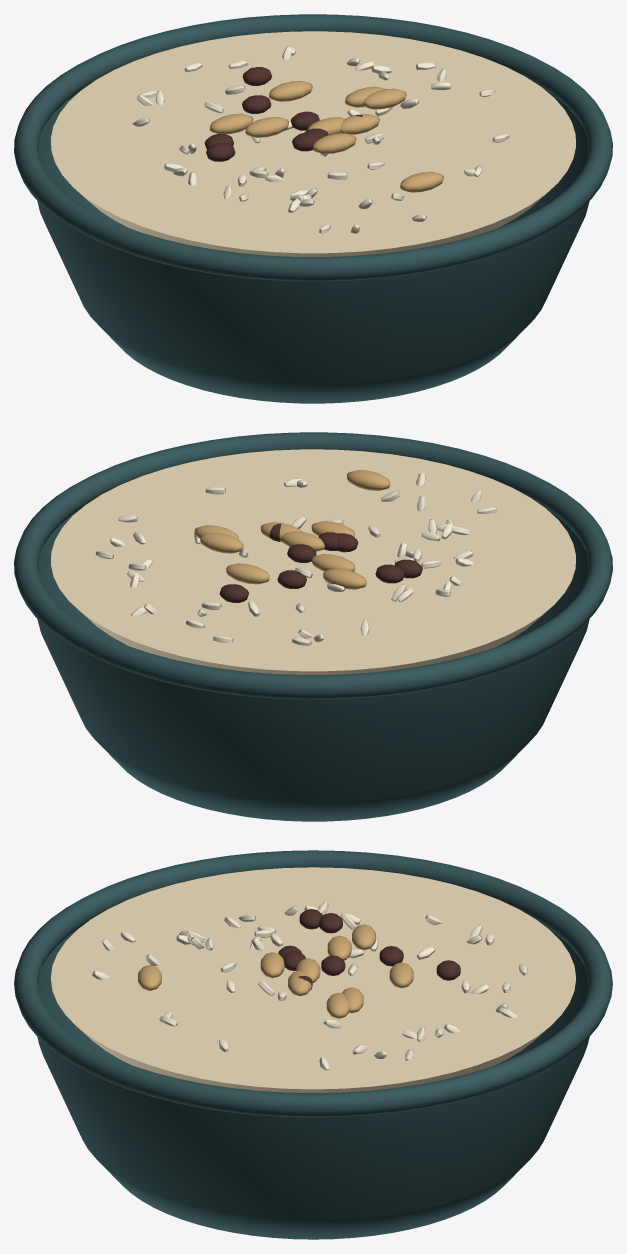
The model's file is rice-payesh.glb.
3 views of the same model, one above another, from view 1: azimuth 30°, elevation 25°; view 2: azimuth 150°, elevation 25°; view 3: azimuth 270°, elevation 25° (orthographic).
Parts seen in each view (by area): view 1: payesh-surface, bowl-shell, bowl-rim, topping-3, topping-7, topping-17, topping-9, topping-5, topping-11, topping-1; view 2: payesh-surface, bowl-shell, bowl-rim, topping-9, topping-3, topping-13, topping-11, topping-17, topping-15; view 3: payesh-surface, bowl-shell, bowl-rim.
Boxes of the visible parts, x1,y1,x2,y2 form: payesh-surface: (51, 31, 575, 256); bowl-shell: (37, 91, 589, 403); bowl-rim: (14, 14, 612, 281); topping-3: (400, 171, 443, 192); topping-7: (312, 133, 356, 153); topping-17: (245, 117, 288, 137); topping-9: (269, 80, 312, 101); topping-5: (362, 88, 406, 109); topping-11: (209, 113, 253, 134); topping-1: (340, 114, 379, 134); payesh-surface: (51, 449, 575, 674); bowl-shell: (37, 509, 589, 821); bowl-rim: (14, 432, 612, 699); topping-9: (226, 563, 269, 584); topping-3: (346, 470, 390, 490); topping-13: (200, 532, 243, 553); topping-11: (323, 568, 366, 589); topping-17: (311, 554, 355, 571); topping-15: (281, 531, 324, 551); payesh-surface: (50, 867, 576, 1092); bowl-shell: (37, 925, 589, 1239); bowl-rim: (14, 850, 612, 1117).
Size of the model in its own units: 1.71 by 0.6148 by 1.71.
